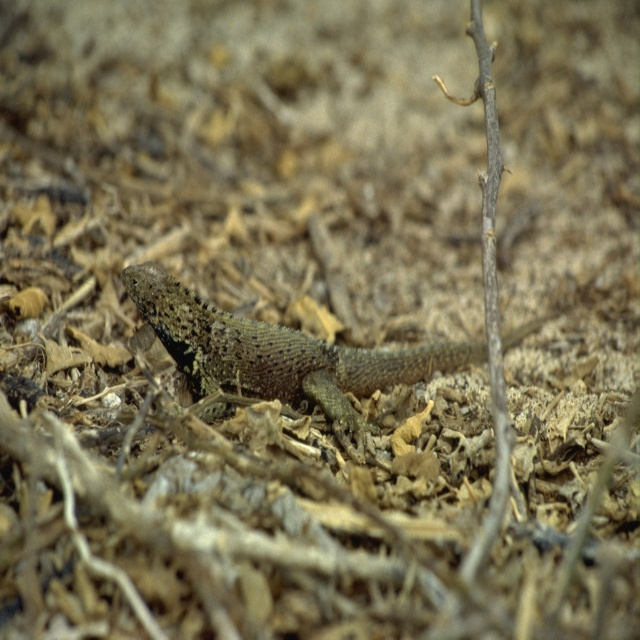Lizard: (109, 247, 506, 448)
